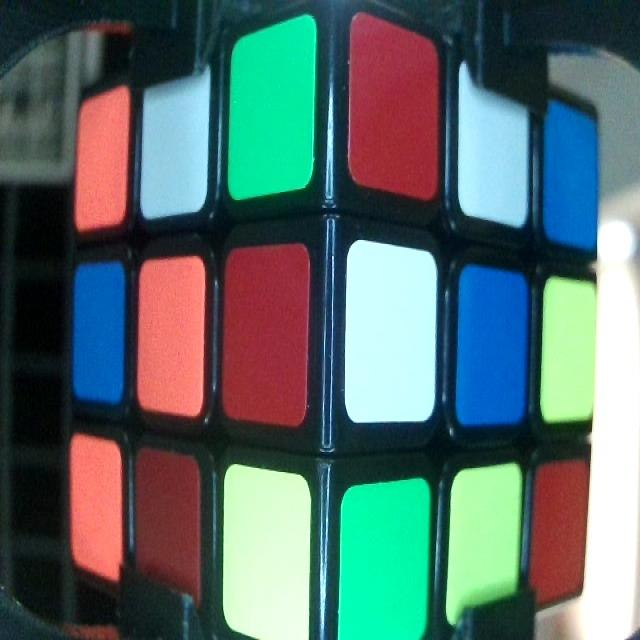b: (461, 267, 529, 424), (548, 103, 595, 248), (76, 265, 124, 399)
g: (341, 493, 433, 640), (235, 34, 313, 190)
o: (143, 265, 204, 411), (74, 98, 127, 230), (72, 441, 121, 580)
r: (351, 27, 437, 186), (229, 253, 308, 423), (137, 448, 198, 597), (538, 471, 581, 600)
w: (351, 247, 438, 420), (461, 62, 530, 222), (144, 74, 207, 210)
y: (222, 466, 311, 638), (458, 477, 518, 608), (546, 280, 599, 425)
